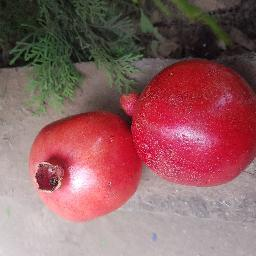Good_pomegranate: (122, 56, 256, 189), (28, 110, 140, 222)
